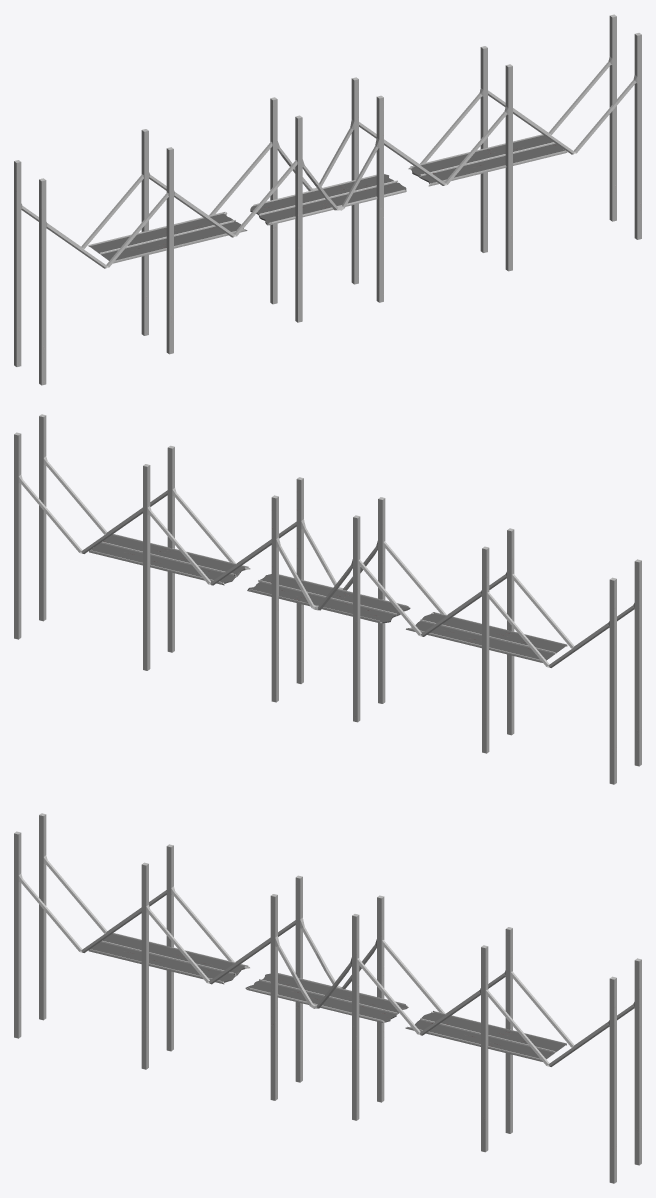
The model's file is oslobridgetextured.FBX.
The picture shows the model from 3 angles, top to bottom: view 1: azimuth 30°, elevation 25°; view 2: azimuth 150°, elevation 25°; view 3: azimuth 330°, elevation 25°; orthographic projection.
Parts seen in each view (by area): view 1: Central Bridge; view 2: Central Bridge; view 3: Central Bridge.
Boxes of the visible parts, x1,y1,x2,y2 form: Central Bridge: (14, 14, 641, 385); Central Bridge: (14, 414, 641, 784); Central Bridge: (14, 813, 641, 1183).
Size of the model in its own units: 1427 by 464 by 115.
